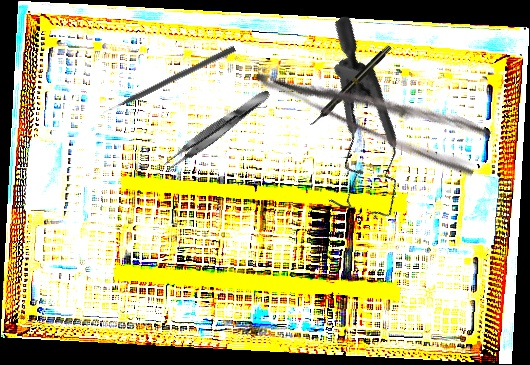Dressing Forceps: (253, 34, 492, 181)
Handpiece: (307, 43, 394, 129)
Pusher: (100, 44, 237, 116)
Speculum: (244, 13, 462, 240)
Tissue Forceps: (160, 85, 275, 175)
